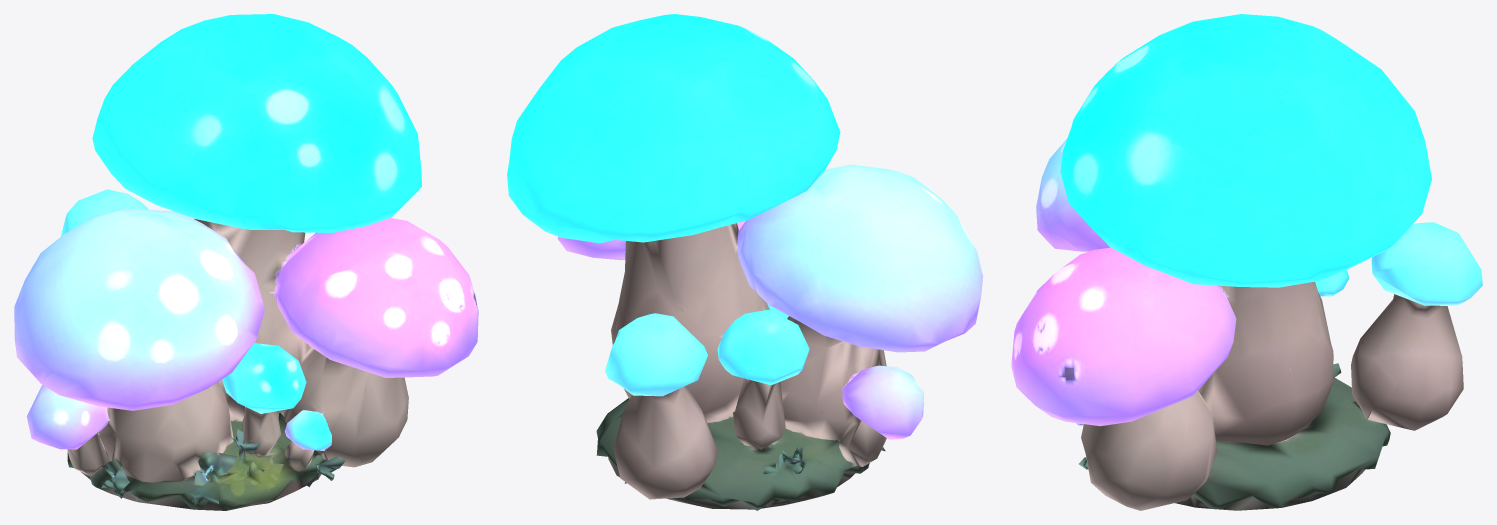
The model's file is gy_mushrooms-B6CEoJO0.glb.
The picture shows the model from 3 angles, left to right: view 1: azimuth 30°, elevation 25°; view 2: azimuth 150°, elevation 25°; view 3: azimuth 270°, elevation 25°; orthographic projection. The views are drawn at different scales.
Visible parts, largest first — view 1: tripo_node_48ea3ae1-57e5-414d-b912-e94de26a6618; view 2: tripo_node_48ea3ae1-57e5-414d-b912-e94de26a6618; view 3: tripo_node_48ea3ae1-57e5-414d-b912-e94de26a6618.
Boxes of the visible parts, box(x1,y1,x2,y2) form: tripo_node_48ea3ae1-57e5-414d-b912-e94de26a6618: box(14, 14, 478, 510); tripo_node_48ea3ae1-57e5-414d-b912-e94de26a6618: box(507, 14, 982, 510); tripo_node_48ea3ae1-57e5-414d-b912-e94de26a6618: box(1011, 14, 1482, 510).
Size of the model in its own units: 1 by 0.9542 by 0.9027.
Materials: 1 (1 with a texture image).
